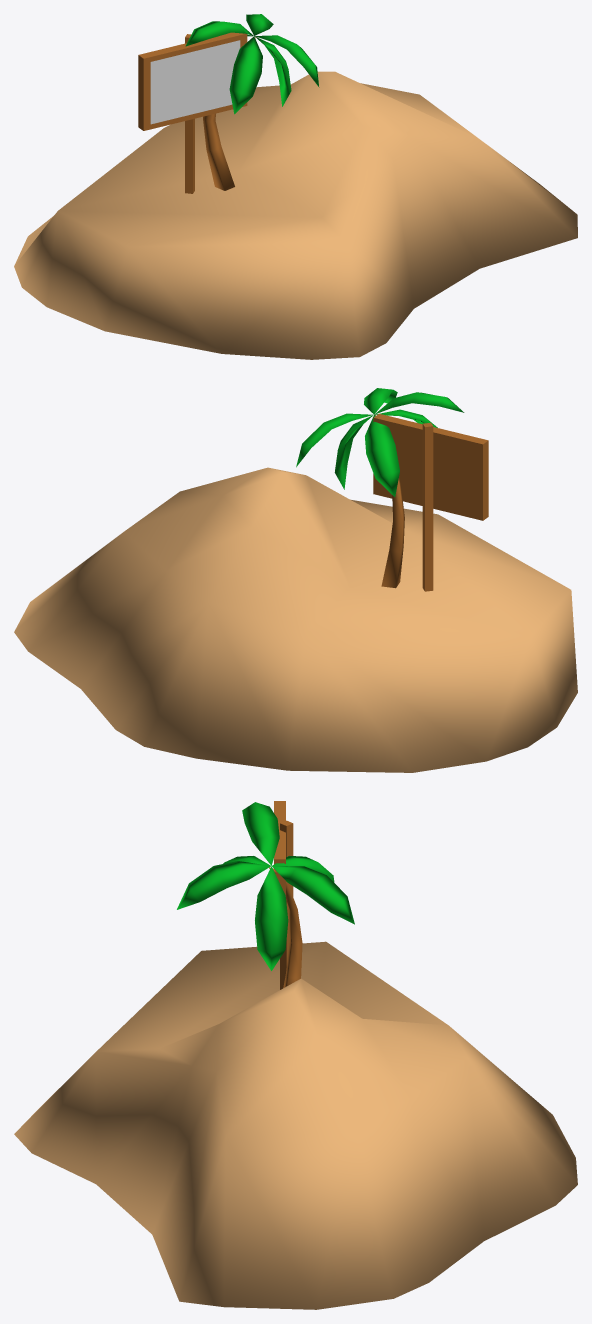
Rendered from Island.fbx.
3 views of the same model, one above another, from view 1: azimuth 30°, elevation 25°; view 2: azimuth 150°, elevation 25°; view 3: azimuth 270°, elevation 25° (orthographic). The views are drawn at different scales.
Visible parts, largest first — view 1: Island, SignPost, Palm_Tree; view 2: Island, SignPost, Palm_Tree; view 3: Island, Palm_Tree, SignPost.
Part boxes in pixels (left/top/right/bottom): Island: left=14, top=71, right=577, bottom=359; SignPost: left=138, top=32, right=247, bottom=193; Palm_Tree: left=185, top=14, right=319, bottom=190; Island: left=14, top=467, right=577, bottom=772; SignPost: left=373, top=413, right=488, bottom=591; Palm_Tree: left=296, top=388, right=464, bottom=588; Island: left=14, top=941, right=577, bottom=1309; Palm_Tree: left=177, top=802, right=354, bottom=987; SignPost: left=274, top=801, right=293, bottom=989.
Size of the model in its own units: 326 by 168 by 280.
